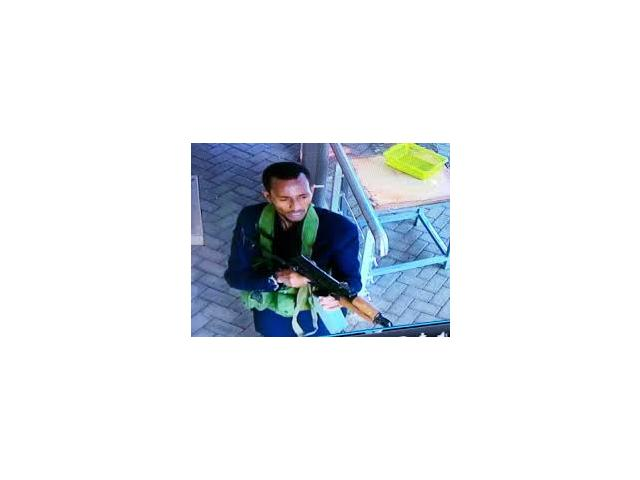rifle: (271, 253, 396, 329)
